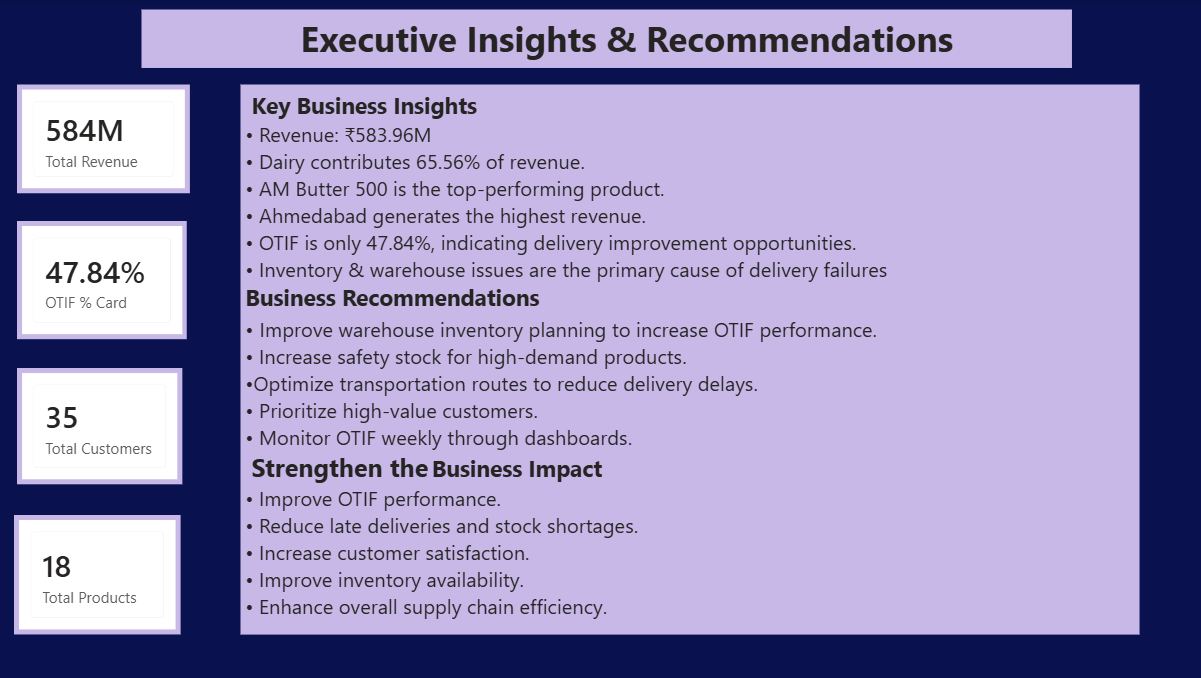

The dashboard page shown, as its layout file describes it:
{"tool":"powerbi","page":{"name":"Page 5","canvas":[1280,720],"ordinal":4},"visuals":[{"type":"textbox","box":[151.7,11.7,986.7,61.7],"z":0},{"type":"cardVisual","fields":{"Data":["dim_customers.Total Revenue"]},"box":[18.3,90,183.3,115],"z":1000},{"type":"cardVisual","fields":{"Data":["dim_customers.OTIF % Card"]},"box":[18.3,235,180,125],"z":2000},{"type":"cardVisual","fields":{"Data":["dim_customers.Total Customers"]},"box":[18.3,391.7,175,123.3],"z":3000},{"type":"cardVisual","fields":{"Data":["dim_customers.Total Products"]},"box":[16.7,546.7,176.7,126.7],"z":4000},{"type":"textbox","box":[256.7,90,953.3,583.3],"z":5000}]}

Visuals, with their boxes in screenshot pixels (x1, y1, x2, y2), scaled from the page's 1280x720 canvas onto the 1201x678 screenshot:
textbox: {"left": 142, "top": 11, "right": 1068, "bottom": 69}
cardVisual - dim_customers.Total Revenue: {"left": 17, "top": 85, "right": 189, "bottom": 193}
cardVisual - dim_customers.OTIF % Card: {"left": 17, "top": 221, "right": 186, "bottom": 339}
cardVisual - dim_customers.Total Customers: {"left": 17, "top": 369, "right": 181, "bottom": 485}
cardVisual - dim_customers.Total Products: {"left": 16, "top": 515, "right": 181, "bottom": 634}
textbox: {"left": 241, "top": 85, "right": 1135, "bottom": 634}
